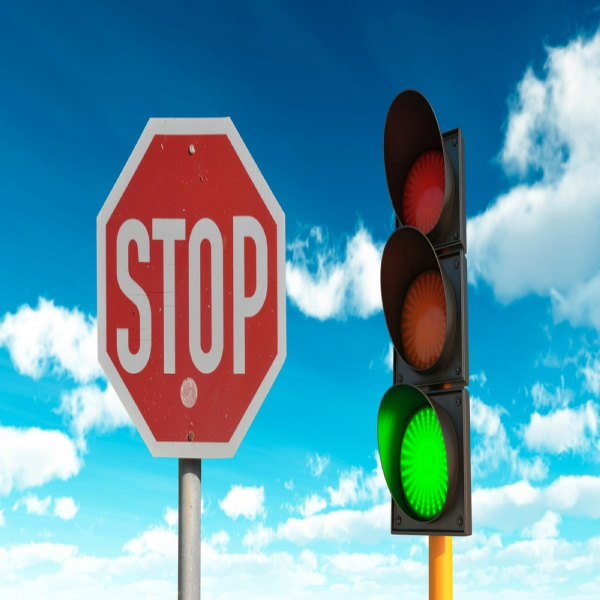stop: (89, 107, 295, 478)
